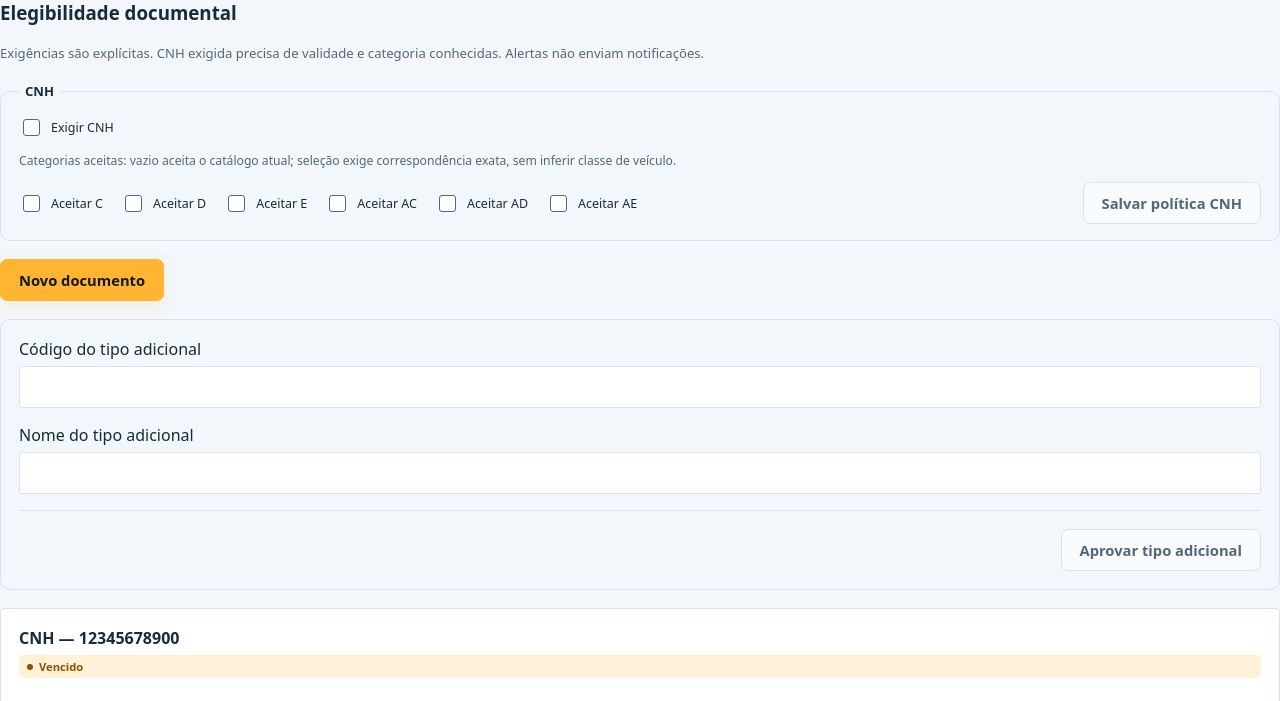
Test: aprova tipo adicional sem inventar exigência automática
The width and height of the screenshot is (1280, 701).
Type "local" into the field labelled "Código do tipo adicional".
click(640, 387); type("local")  # box [19,366,1261,408]
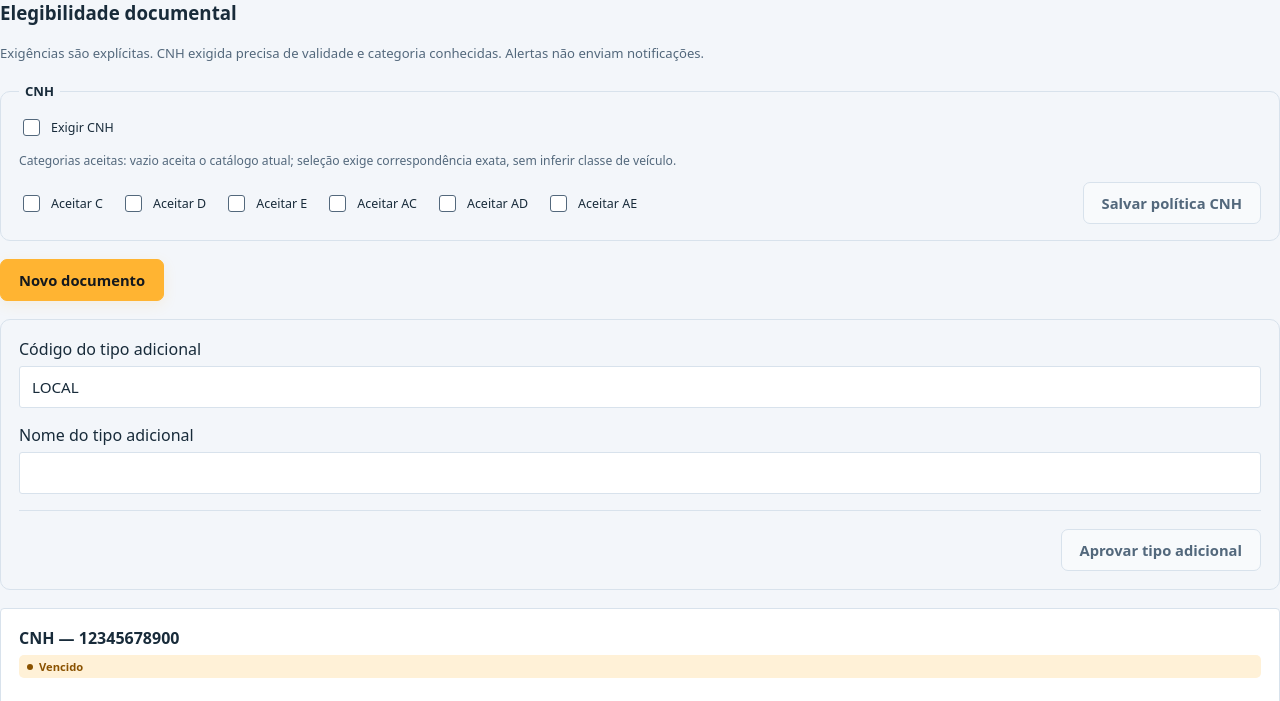
Type "Documento local" into the field labelled "Nome do tipo adicional".
click(640, 473); type("Documento local")  # box [19,452,1261,494]
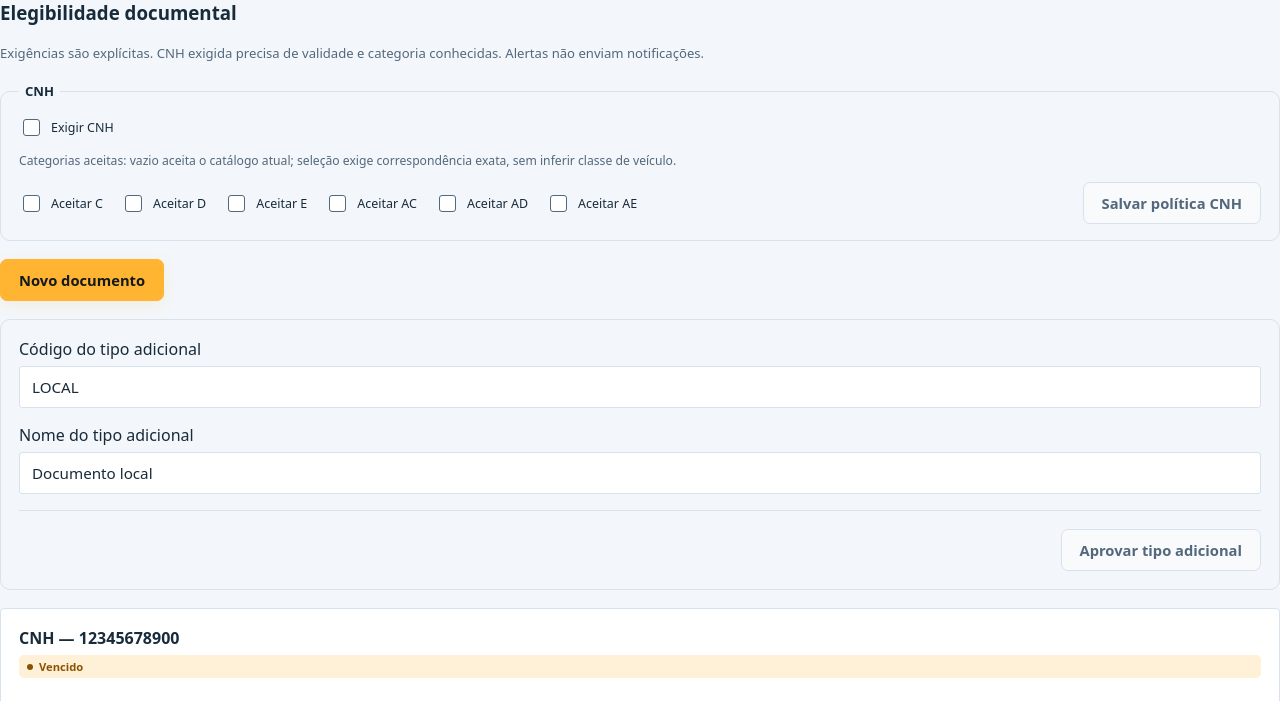
Click the button "Aprovar tipo adicional".
click(1161, 550)  # box [1060,529,1261,571]
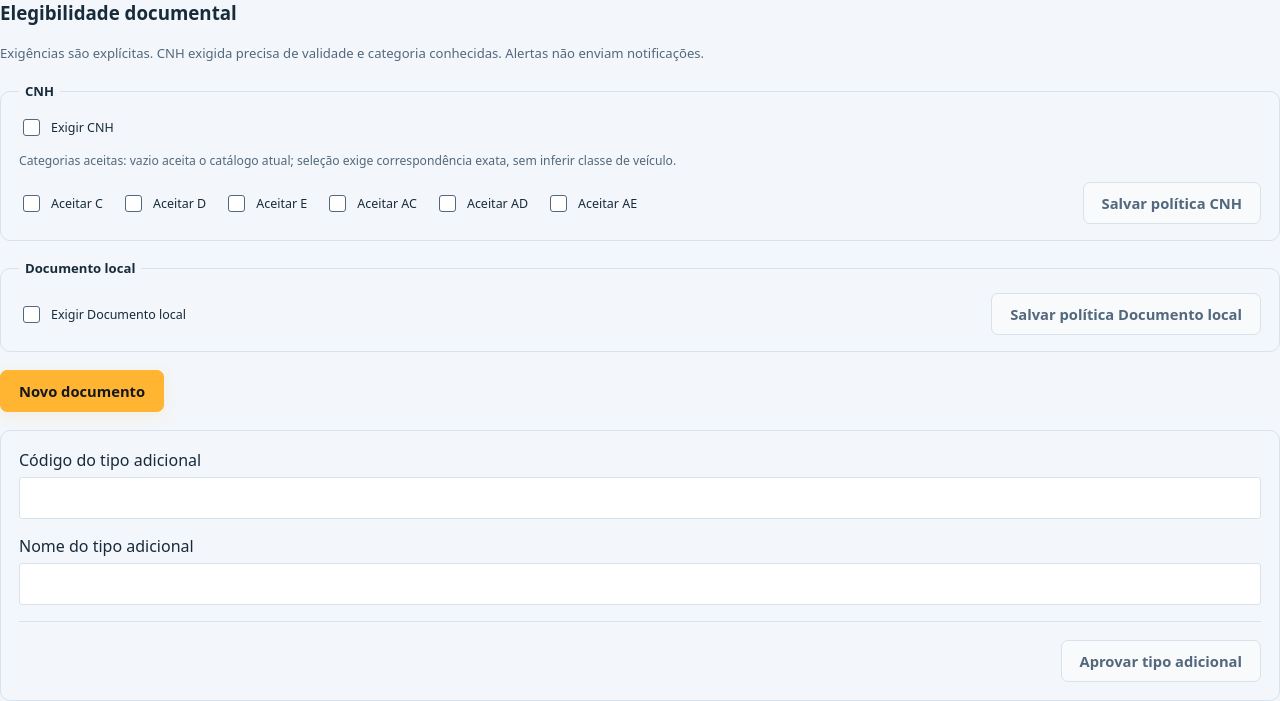
Check: the checkbox labelled "Exigir Documento local" is not checked, box [23,306,40,323]
